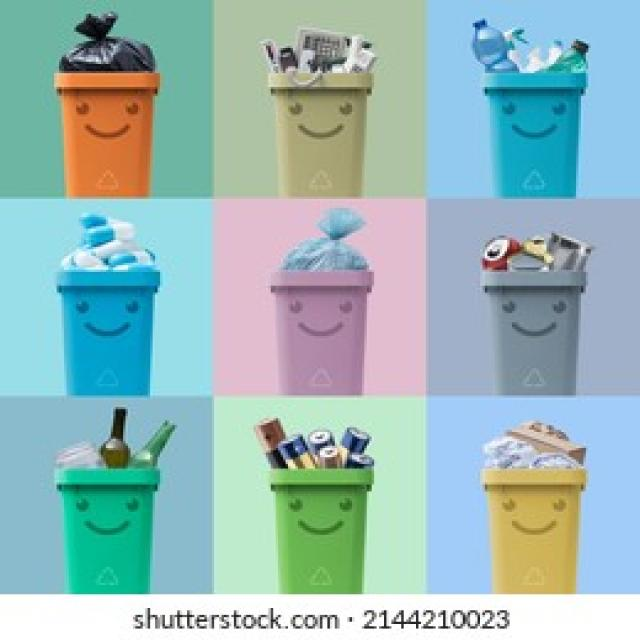cardboard: (470, 416, 596, 471)
glass: (89, 418, 200, 469)
metal: (234, 23, 372, 82), (249, 418, 379, 471), (465, 235, 603, 272)
plastic: (458, 21, 593, 82), (76, 210, 153, 274)
trash: (283, 215, 367, 274), (54, 14, 145, 64)
